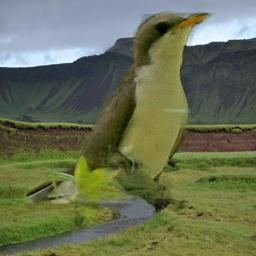Cuckoo: (24, 6, 216, 232)
